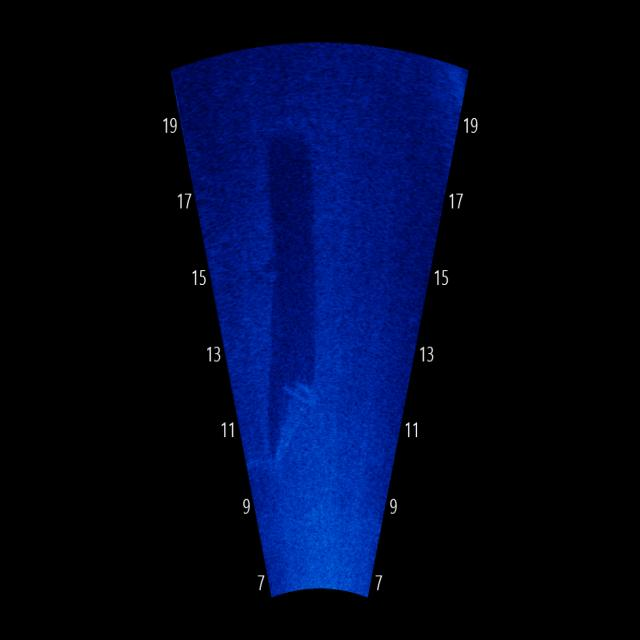triangle: (258, 368, 330, 472)
